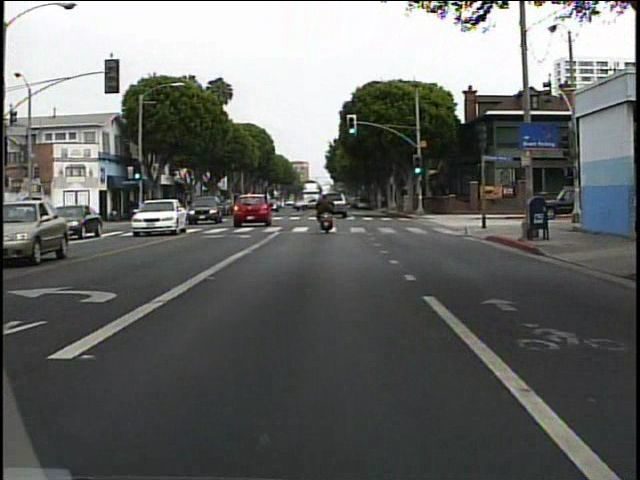person: (311, 186, 342, 242)
